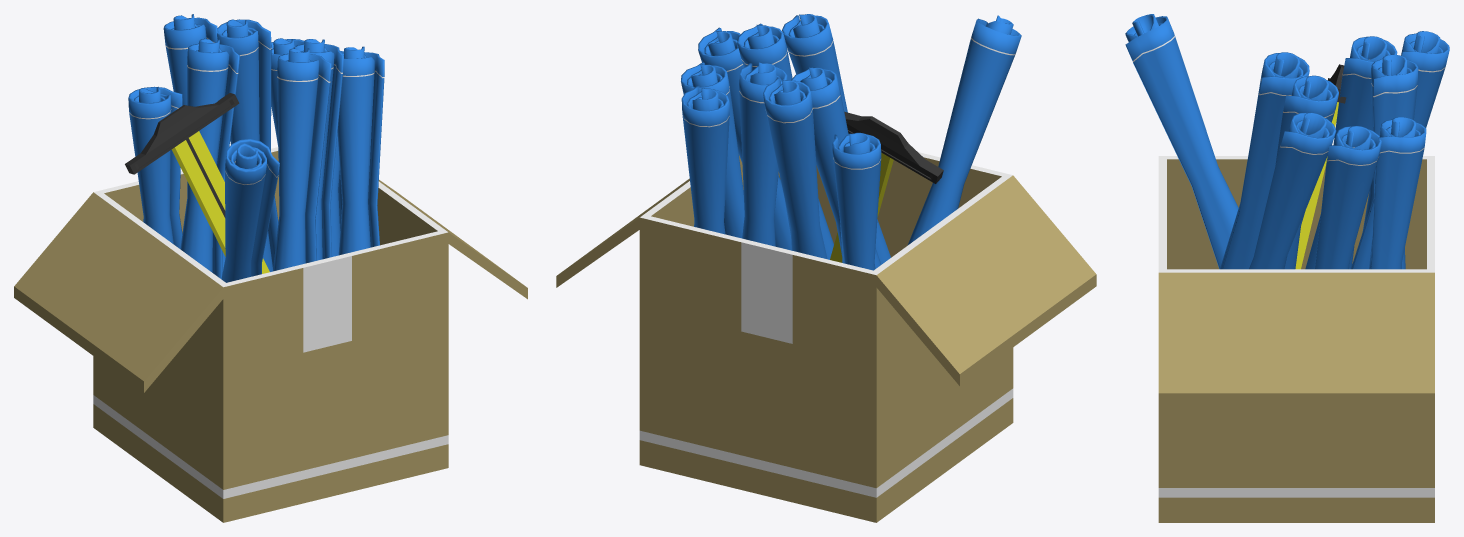
The model's file is BluePrintBox (1).fbx.
3 views of the same model, side by side, from view 1: azimuth 30°, elevation 25°; view 2: azimuth 150°, elevation 25°; view 3: azimuth 270°, elevation 25° (orthographic). The views are drawn at different scales.
Parts seen in each view (by area): view 1: Spiral.013; view 2: Spiral.013; view 3: Spiral.013.
Part boxes in pixels (x1=…): Spiral.013: x1=14, y1=14, x2=527, y2=522; Spiral.013: x1=556, y1=14, x2=1096, y2=522; Spiral.013: x1=1125, y1=14, x2=1449, y2=522.
Bounding box in the file's own units: 1.42 × 0.9821 × 1.41.
